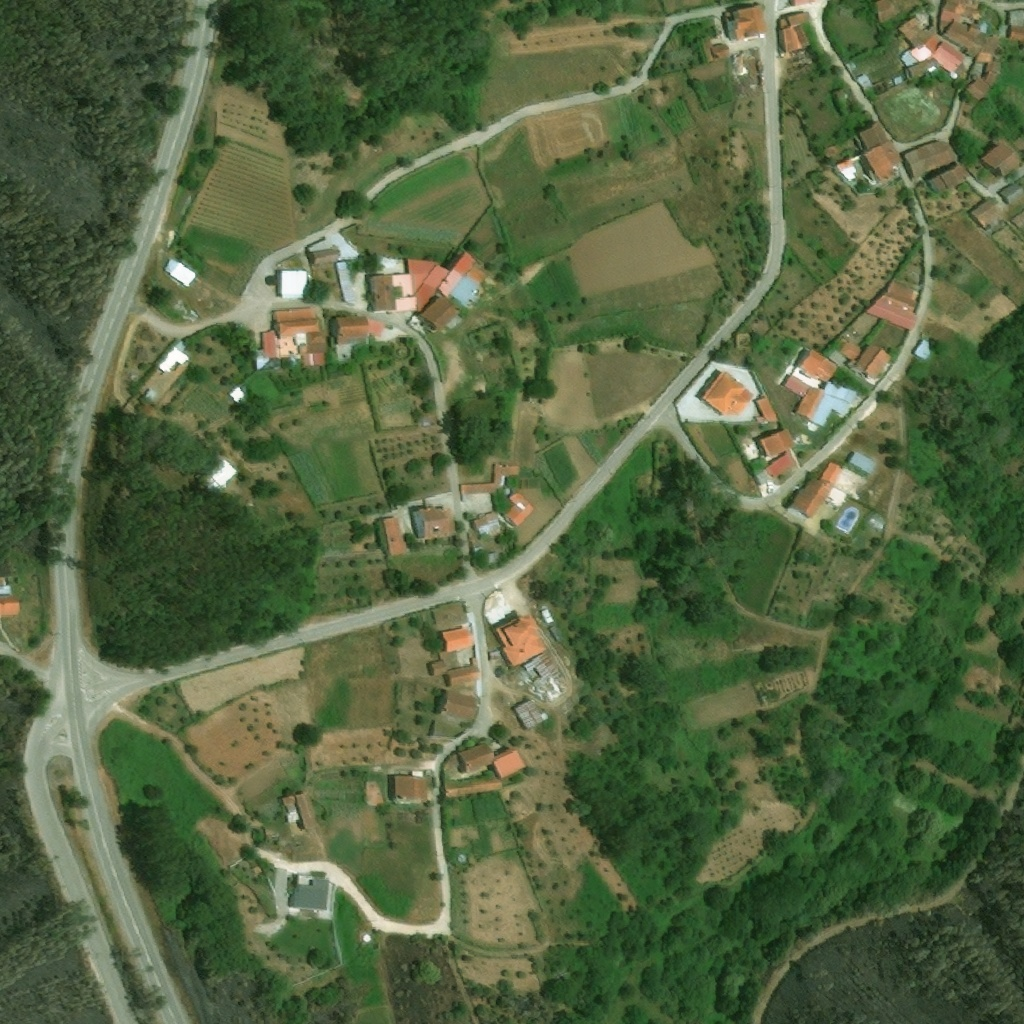0 no-damage: (366, 249, 491, 315), (255, 307, 328, 372), (897, 16, 966, 80), (492, 613, 547, 669), (794, 380, 858, 428), (696, 369, 754, 418), (863, 280, 917, 332), (857, 122, 903, 181), (902, 137, 957, 177), (818, 461, 871, 501), (838, 340, 891, 380), (329, 315, 372, 363), (459, 462, 520, 494), (789, 477, 831, 519), (724, 3, 767, 43), (286, 874, 330, 910), (198, 458, 239, 496), (980, 141, 1023, 177), (775, 12, 810, 56), (279, 792, 318, 831), (440, 775, 503, 799), (418, 295, 460, 331), (410, 504, 453, 539), (795, 347, 837, 382), (433, 688, 477, 721), (926, 162, 968, 195), (455, 743, 496, 775), (504, 487, 535, 529), (377, 517, 408, 558), (941, 17, 980, 49), (513, 698, 550, 730), (757, 427, 795, 458), (493, 745, 527, 779), (469, 510, 504, 543), (935, 0, 979, 26), (388, 774, 427, 802), (967, 197, 1001, 229), (438, 622, 473, 653), (779, 367, 815, 397), (161, 258, 196, 288), (154, 346, 189, 375), (333, 261, 357, 303), (305, 237, 337, 266), (699, 36, 731, 64), (446, 662, 480, 687), (276, 270, 307, 297), (765, 451, 794, 478), (751, 395, 778, 422), (522, 652, 552, 676), (846, 450, 875, 474), (995, 181, 1023, 204), (971, 32, 1000, 54), (968, 50, 993, 75), (871, 0, 898, 23), (965, 76, 990, 98), (834, 159, 856, 183), (0, 595, 20, 617), (825, 487, 847, 507), (912, 338, 931, 360), (225, 385, 245, 405), (953, 55, 970, 76), (855, 73, 872, 91), (428, 660, 446, 676), (821, 144, 838, 160), (1005, 27, 1023, 41), (1005, 12, 1023, 24), (983, 70, 998, 84), (890, 74, 903, 87), (844, 60, 856, 72), (250, 866, 262, 876), (926, 64, 937, 74), (947, 71, 958, 80), (979, 21, 986, 30)
4 un-classified: (832, 86, 851, 104), (1008, 209, 1023, 231), (366, 790, 384, 805), (801, 530, 815, 543), (789, 0, 814, 6), (732, 64, 743, 76)
